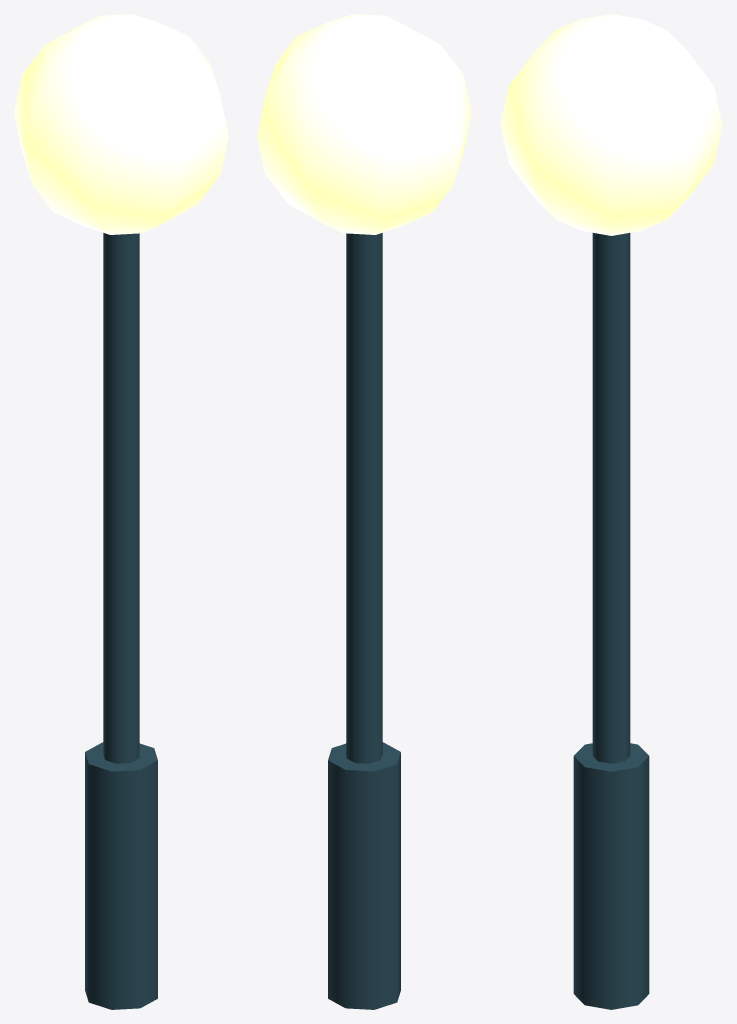
The model's file is obj_lampPost.fbx.
3 views of the same model, side by side, from view 1: azimuth 30°, elevation 25°; view 2: azimuth 150°, elevation 25°; view 3: azimuth 270°, elevation 25° (orthographic).
Parts seen in each view (by area): view 1: lamppost_pole, lamppost_light; view 2: lamppost_pole, lamppost_light; view 3: lamppost_pole, lamppost_light.
Part boxes in pixels (box(x1,y1,x2,y2)): lamppost_pole: box(85, 233, 157, 1009); lamppost_light: box(14, 14, 228, 234); lamppost_pole: box(328, 233, 400, 1009); lamppost_light: box(257, 14, 471, 234); lamppost_pole: box(573, 233, 649, 1009); lamppost_light: box(500, 14, 722, 235).
Size of the model in its own units: 70.27 by 338 by 70.27.
